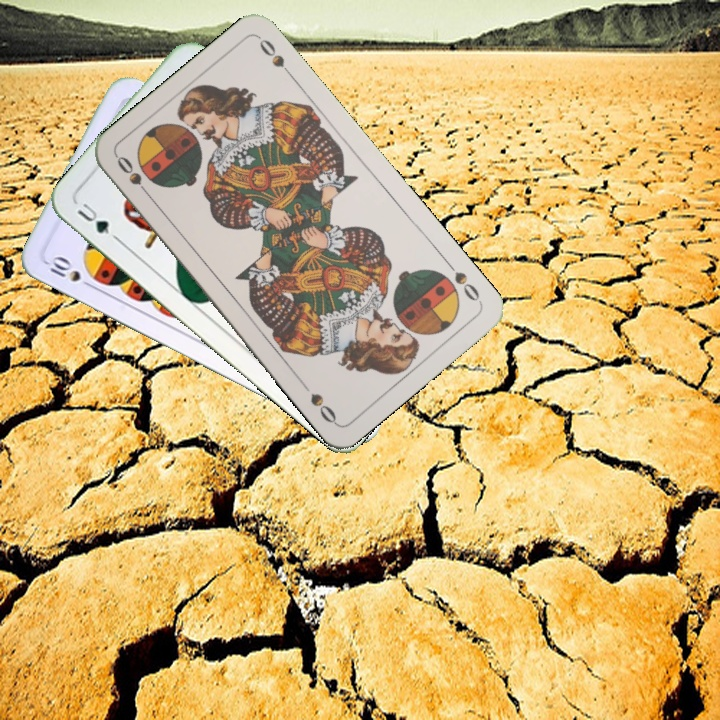GU: (73, 198, 121, 243)
S10: (45, 252, 97, 292)
SO: (112, 151, 155, 202), (441, 256, 484, 306)
